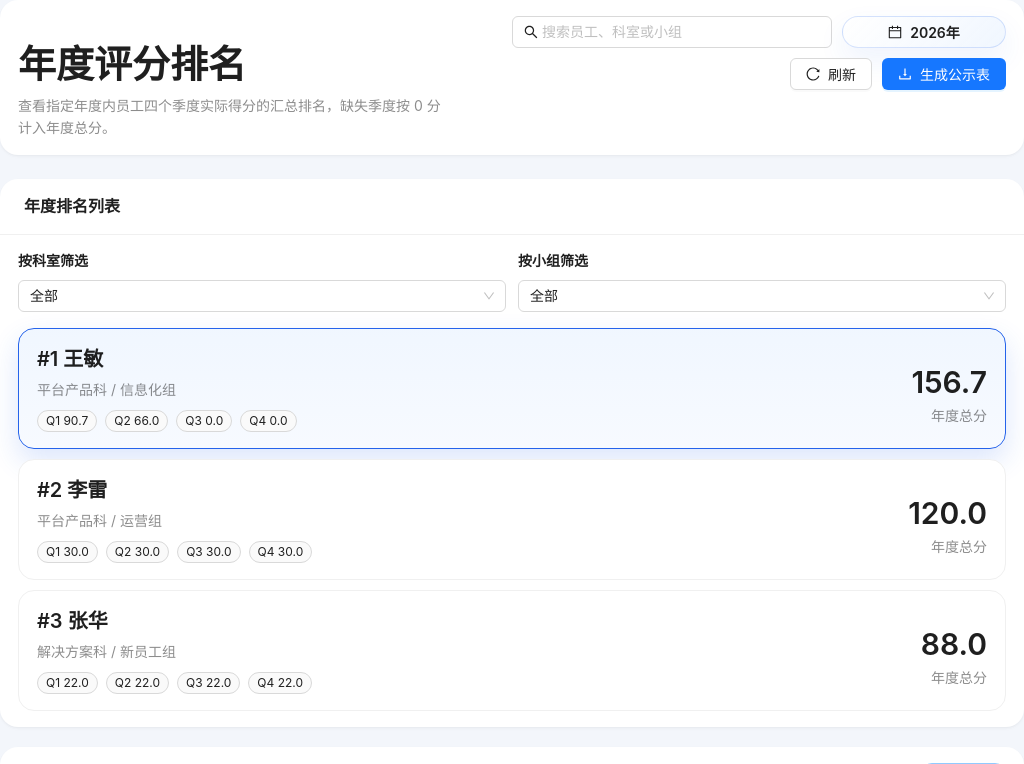
Test: LeaderAnnualRankingPage › filters annual ranking by section and review group
Expected: the text "年度排名列表" is shown, [24,196,120,216]
Expected: the heading "#1 王敏" is shown, [37,348,103,372]
Press the mouse on the dropdown named "按科室筛选" at (44, 296), box [30,288,58,304]
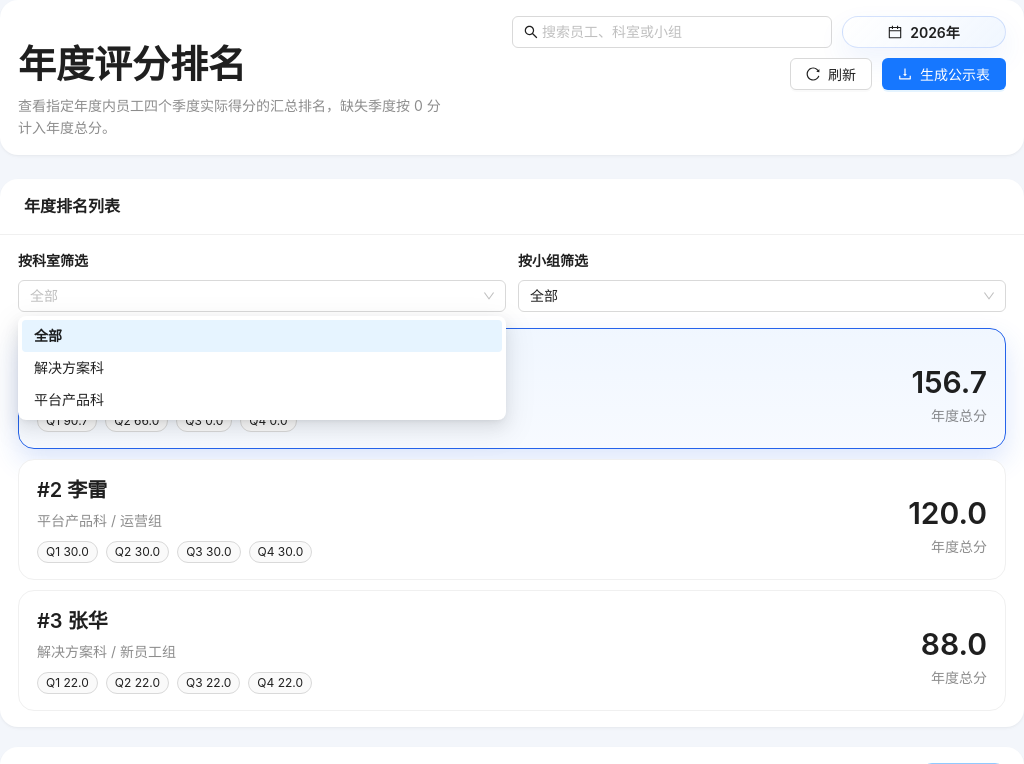
Click the text "平台产品科" at (69, 400), box [34,391,104,408]
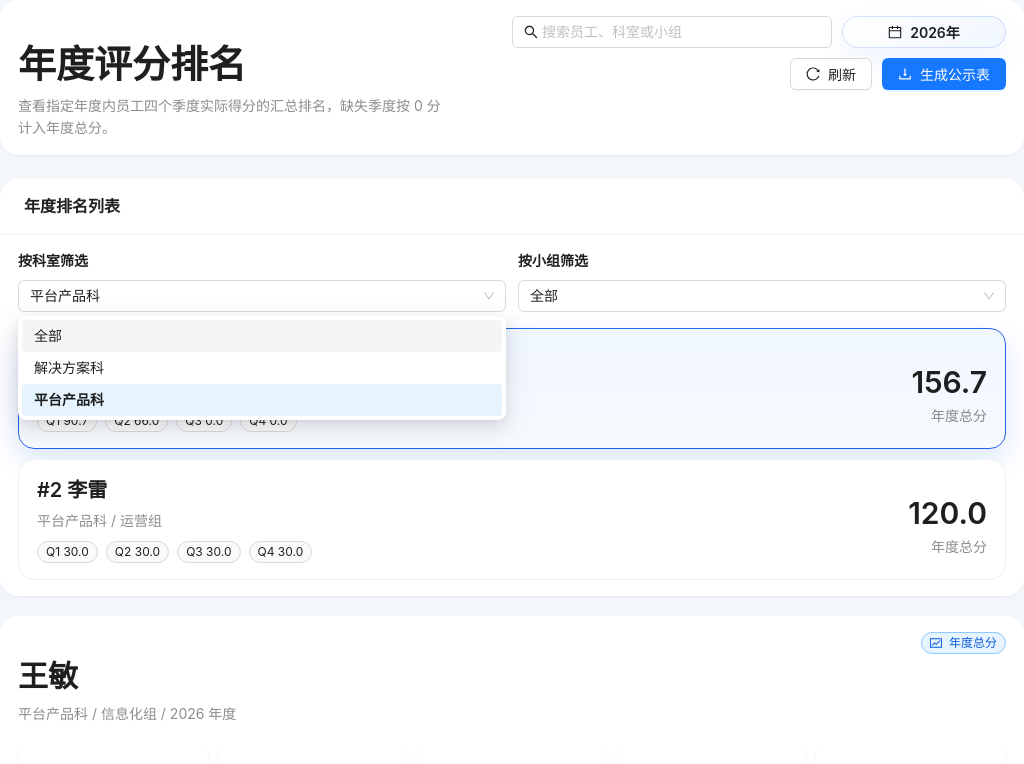
Expected: the heading "#1 王敏" is shown, [37,348,103,372]
Now the heading "张华" is gone
Press the mouse on the dropdown named "按小组筛选" at (544, 296), box [530,288,558,304]
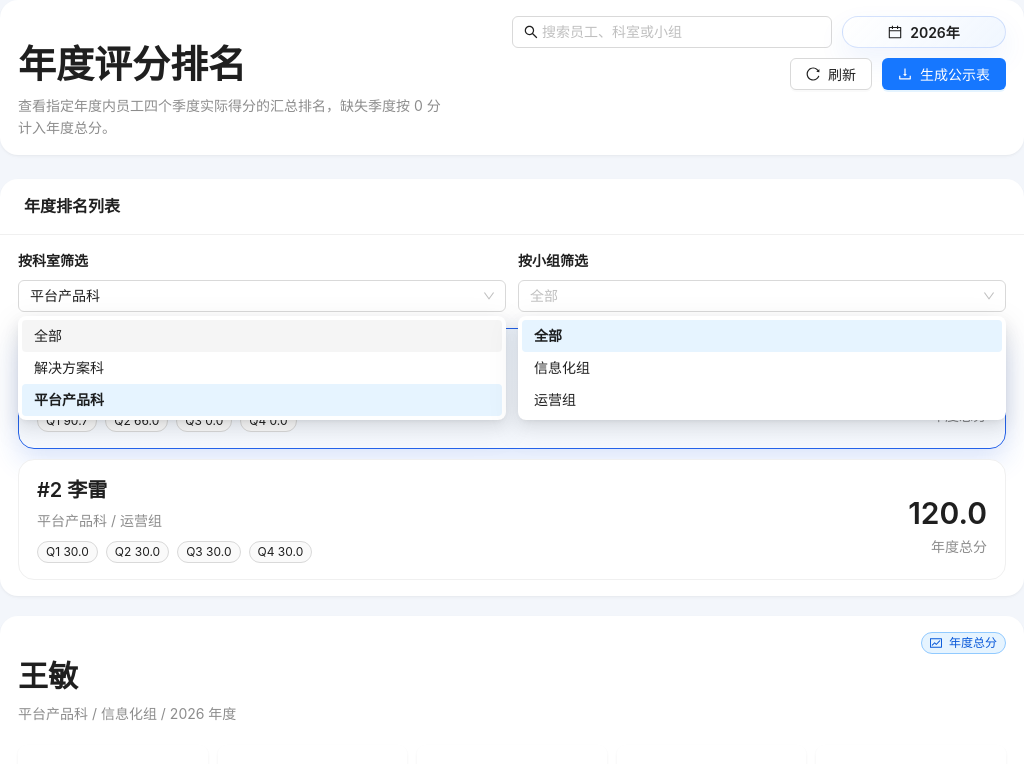
Click the text "运营组" at (555, 400), box [534,391,576,408]
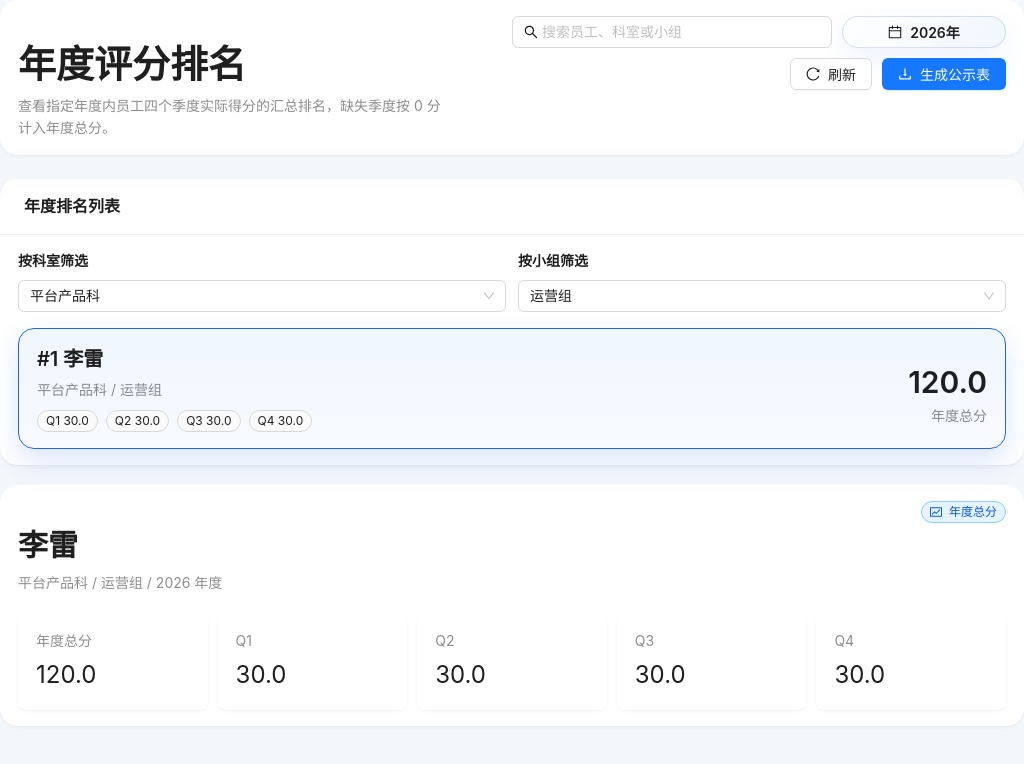
Expected: the heading "#1 李雷" is shown, [37,348,103,372]
Now the heading "王敏" is gone
